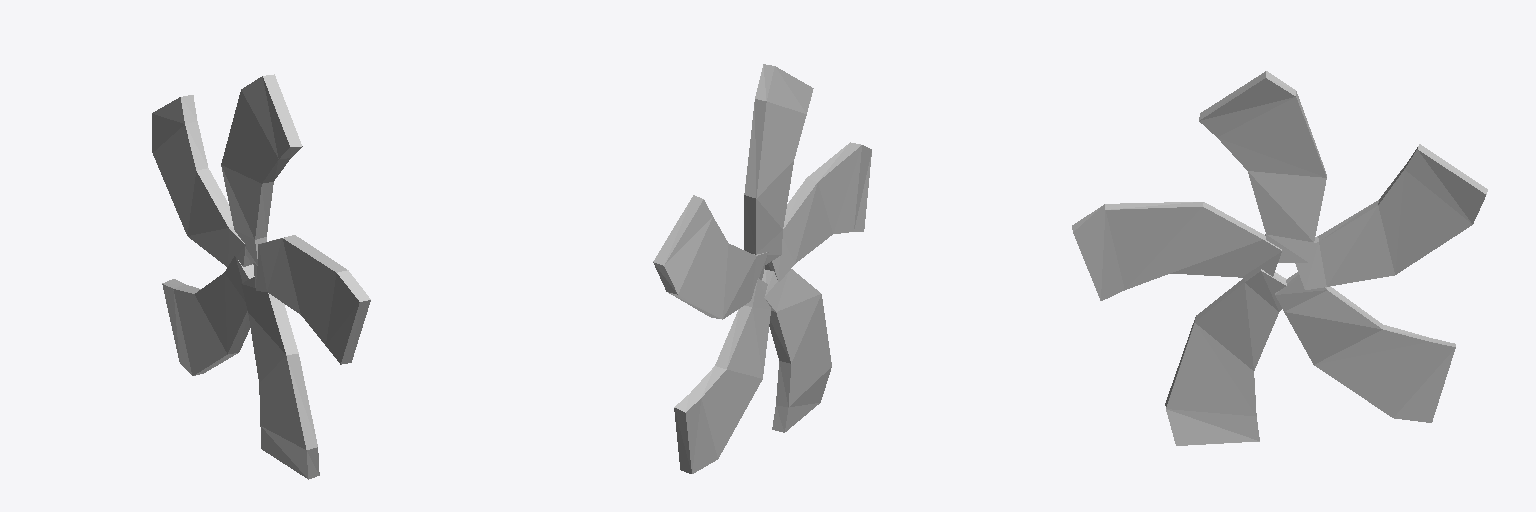
The model's file is fan blades.obj.
3 renders of one model, left to right at view 1: azimuth 30°, elevation 25°; view 2: azimuth 150°, elevation 25°; view 3: azimuth 270°, elevation 25°, orthographic.
Visible parts, largest first — view 1: Fan_blade003; view 2: Fan_blade003; view 3: Fan_blade003.
Boxes of the visible parts, box(x1,y1,x2,y2) form: Fan_blade003: box(152, 74, 370, 479); Fan_blade003: box(653, 64, 871, 473); Fan_blade003: box(1072, 71, 1487, 445).
Size of the model in its own units: 1.94 by 29.29 by 29.84.